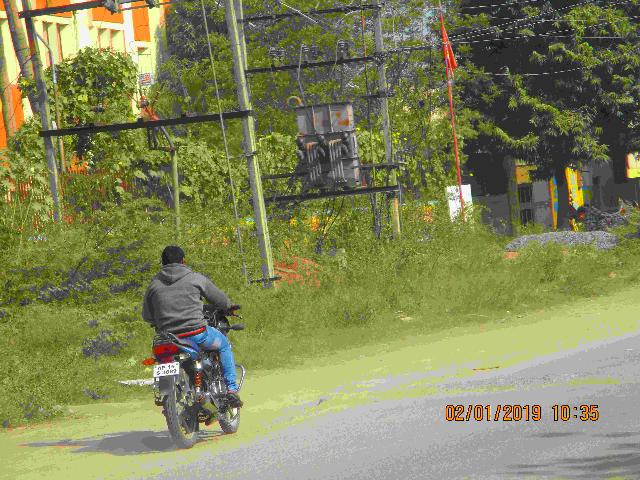motor: (144, 334, 247, 451)
non-helm: (163, 246, 186, 268)
